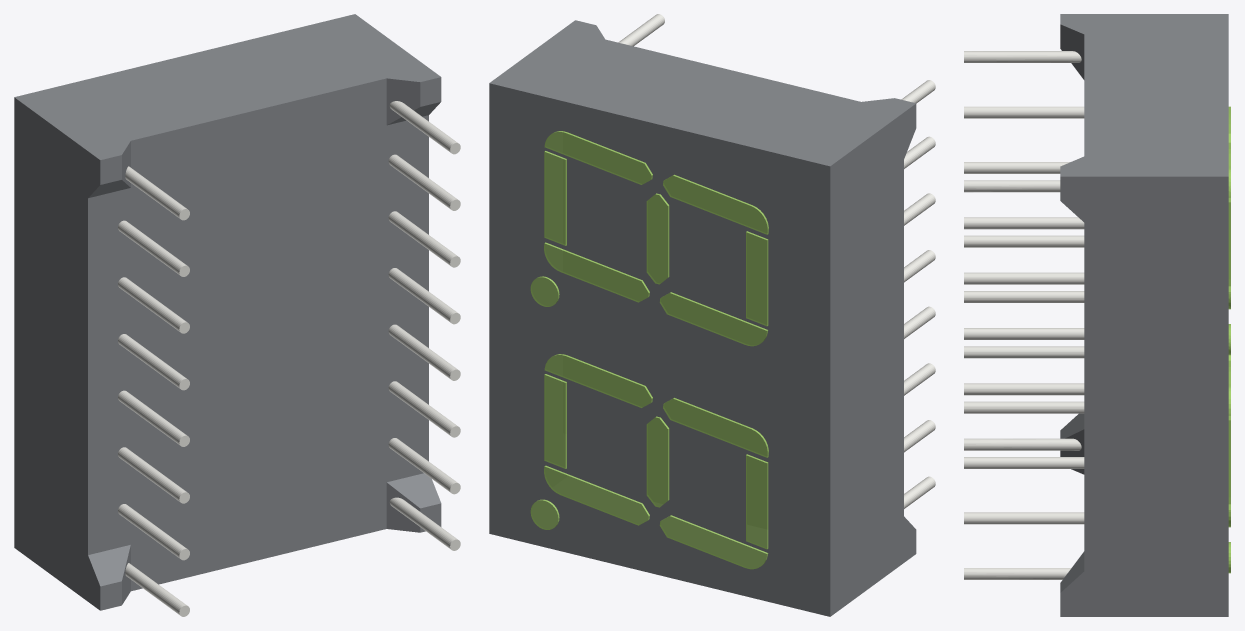
Rendered from DA04-11CGKWA.glb.
The picture shows the model from 3 angles, left to right: view 1: azimuth 30°, elevation 25°; view 2: azimuth 150°, elevation 25°; view 3: azimuth 270°, elevation 25°; orthographic projection. The views are drawn at different scales.
Visible parts, largest first — view 1: Shape_IndexedFaceSet.012, Shape_IndexedFaceSet.011, Shape_IndexedFaceSet.019, Shape_IndexedFaceSet.013, Shape_IndexedFaceSet.116, Shape_IndexedFaceSet.016, Shape_IndexedFaceSet.005, Shape_IndexedFaceSet.006, Shape_IndexedFaceSet.014, Shape_IndexedFaceSet.130, Shape_IndexedFaceSet.127, Shape_IndexedFaceSet.128 (+15 smaller); view 2: Shape_IndexedFaceSet.010, Shape_IndexedFaceSet.011, Shape_IndexedFaceSet.019, Shape_IndexedFaceSet.142, Shape_IndexedFaceSet.141, Shape_IndexedFaceSet.134, Shape_IndexedFaceSet.136, Shape_IndexedFaceSet.137, Shape_IndexedFaceSet.146, Shape_IndexedFaceSet.132, Shape_IndexedFaceSet.139, Shape_IndexedFaceSet.138 (+7 smaller); view 3: Shape_IndexedFaceSet.009, Shape_IndexedFaceSet.019, Shape_IndexedFaceSet.117, Shape_IndexedFaceSet.119, Shape_IndexedFaceSet.121, Shape_IndexedFaceSet.124, Shape_IndexedFaceSet.126, Shape_IndexedFaceSet.128, Shape_IndexedFaceSet.129, Shape_IndexedFaceSet.120, Shape_IndexedFaceSet.001, Shape_IndexedFaceSet.118 (+10 smaller).
Boxes of the visible parts, x1=… form: Shape_IndexedFaceSet.012: x1=131, y1=125, x2=386, y2=544; Shape_IndexedFaceSet.011: x1=14, y1=97, x2=100, y2=610; Shape_IndexedFaceSet.019: x1=14, y1=14, x2=440, y2=159; Shape_IndexedFaceSet.013: x1=88, y1=188, x2=130, y2=554; Shape_IndexedFaceSet.116: x1=131, y1=78, x2=386, y2=187; Shape_IndexedFaceSet.016: x1=386, y1=115, x2=428, y2=481; Shape_IndexedFaceSet.005: x1=131, y1=482, x2=386, y2=591; Shape_IndexedFaceSet.006: x1=88, y1=545, x2=130, y2=586; Shape_IndexedFaceSet.014: x1=387, y1=473, x2=440, y2=508; Shape_IndexedFaceSet.130: x1=386, y1=78, x2=420, y2=124; Shape_IndexedFaceSet.127: x1=388, y1=381, x2=458, y2=435; Shape_IndexedFaceSet.128: x1=388, y1=324, x2=457, y2=379; Shape_IndexedFaceSet.010: x1=489, y1=83, x2=830, y2=616; Shape_IndexedFaceSet.011: x1=830, y1=104, x2=916, y2=616; Shape_IndexedFaceSet.019: x1=489, y1=20, x2=915, y2=166; Shape_IndexedFaceSet.142: x1=663, y1=175, x2=767, y2=234; Shape_IndexedFaceSet.141: x1=544, y1=132, x2=651, y2=184; Shape_IndexedFaceSet.134: x1=544, y1=355, x2=651, y2=407; Shape_IndexedFaceSet.136: x1=663, y1=398, x2=767, y2=457; Shape_IndexedFaceSet.137: x1=659, y1=293, x2=766, y2=346; Shape_IndexedFaceSet.146: x1=544, y1=466, x2=648, y2=525; Shape_IndexedFaceSet.132: x1=544, y1=243, x2=648, y2=302; Shape_IndexedFaceSet.139: x1=659, y1=516, x2=766, y2=569; Shape_IndexedFaceSet.138: x1=746, y1=455, x2=767, y2=549; Shape_IndexedFaceSet.009: x1=1060, y1=176, x2=1228, y2=616; Shape_IndexedFaceSet.019: x1=1060, y1=14, x2=1228, y2=176; Shape_IndexedFaceSet.117: x1=964, y1=272, x2=1084, y2=284; Shape_IndexedFaceSet.119: x1=964, y1=383, x2=1084, y2=395; Shape_IndexedFaceSet.121: x1=964, y1=106, x2=1084, y2=118; Shape_IndexedFaceSet.124: x1=964, y1=346, x2=1084, y2=358; Shape_IndexedFaceSet.126: x1=964, y1=235, x2=1084, y2=247; Shape_IndexedFaceSet.128: x1=964, y1=401, x2=1084, y2=413; Shape_IndexedFaceSet.129: x1=964, y1=512, x2=1084, y2=524; Shape_IndexedFaceSet.120: x1=964, y1=217, x2=1084, y2=229; Shape_IndexedFaceSet.001: x1=964, y1=438, x2=1081, y2=450; Shape_IndexedFaceSet.118: x1=964, y1=328, x2=1084, y2=339.
Bounding box in the file's own units: 6.3 × 7.95 × 4.37.
